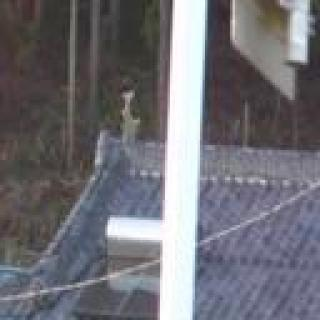fire: (0, 0, 2, 263)
